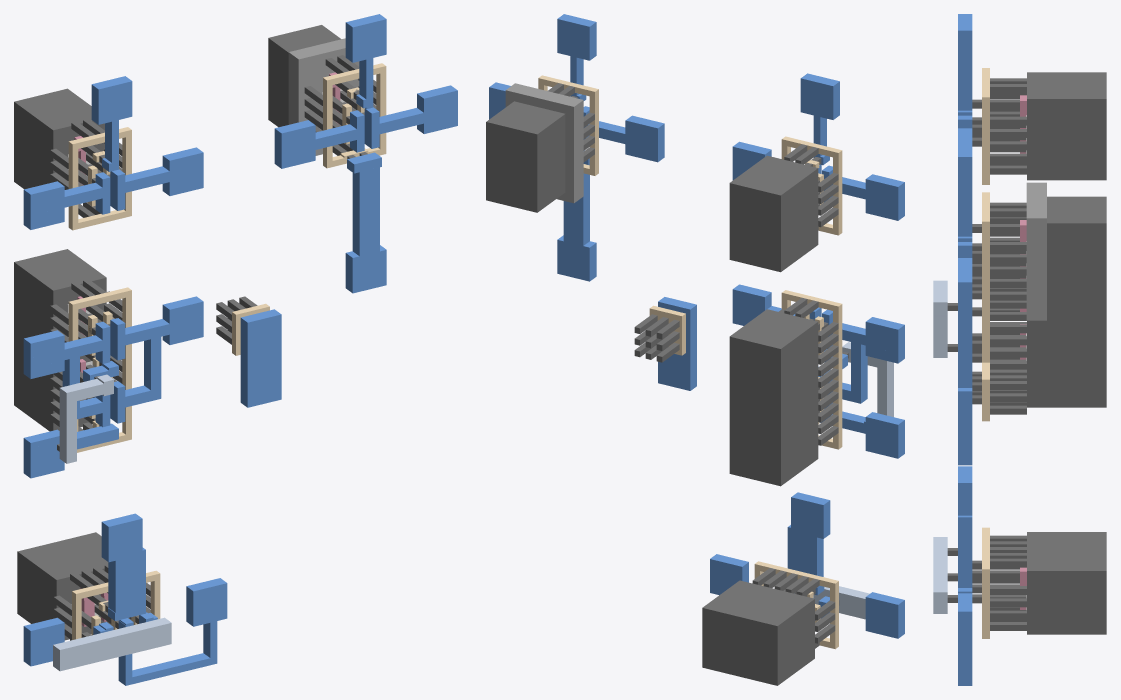
File: fets.gds.gltf
3 views of the same model, side by side, from view 1: azimuth 30°, elevation 25°; view 2: azimuth 150°, elevation 25°; view 3: azimuth 270°, elevation 25° (orthographic). The views are drawn at different scales.
Visible parts, largest first — view 1: fets_met1, sky130_fd_pr__nfet_01v8_BB6ZKZ_substrate, fets_met2, sky130_fd_pr__nfet_01v8_64Z3AY_substrate, sky130_fd_pr__nfet_01v8_F7DBYB_substrate, sky130_fd_pr__pfet_01v8_MGS3BN_nwell, sky130_fd_pr__pfet_01v8_MGS3BN_substrate, sky130_fd_pr__nfet_01v8_BB6ZKZ_li1, sky130_fd_pr__nfet_01v8_BB6ZKZ_licon, sky130_fd_pr__nfet_01v8_64Z3AY_li1, sky130_fd_pr__nfet_01v8_BB6ZKZ_met1, sky130_fd_pr__pfet_01v8_MGS3BN_li1 (+8 smaller); view 2: fets_met1, sky130_fd_pr__nfet_01v8_BB6ZKZ_substrate, sky130_fd_pr__nfet_01v8_F7DBYB_substrate, sky130_fd_pr__nfet_01v8_64Z3AY_substrate, sky130_fd_pr__pfet_01v8_MGS3BN_substrate, sky130_fd_pr__pfet_01v8_MGS3BN_nwell, sky130_fd_pr__nfet_01v8_BB6ZKZ_licon, fets_met2, sky130_fd_pr__nfet_01v8_BB6ZKZ_li1, sky130_fd_pr__nfet_01v8_F7DBYB_licon, fets_licon, sky130_fd_pr__nfet_01v8_64Z3AY_li1 (+5 smaller); view 3: fets_met1, sky130_fd_pr__nfet_01v8_64Z3AY_substrate, sky130_fd_pr__nfet_01v8_F7DBYB_substrate, sky130_fd_pr__nfet_01v8_BB6ZKZ_substrate, sky130_fd_pr__pfet_01v8_MGS3BN_substrate, sky130_fd_pr__pfet_01v8_MGS3BN_licon, sky130_fd_pr__nfet_01v8_64Z3AY_licon, sky130_fd_pr__nfet_01v8_F7DBYB_licon, sky130_fd_pr__pfet_01v8_MGS3BN_nwell, sky130_fd_pr__nfet_01v8_BB6ZKZ_licon, fets_met2, fets_licon (+13 smaller).
Part boxes in pixels (x1,y1,x2,y2): fets_met1: (23,14,457,685); sky130_fd_pr__nfet_01v8_BB6ZKZ_substrate: (14,249,106,431); fets_met2: (53,374,171,671); sky130_fd_pr__nfet_01v8_64Z3AY_substrate: (14,88,104,189); sky130_fd_pr__nfet_01v8_F7DBYB_substrate: (17,532,131,640); sky130_fd_pr__pfet_01v8_MGS3BN_nwell: (288,38,359,155); sky130_fd_pr__pfet_01v8_MGS3BN_substrate: (268,25,341,127); sky130_fd_pr__nfet_01v8_BB6ZKZ_li1: (68,287,131,452); sky130_fd_pr__nfet_01v8_BB6ZKZ_licon: (50,279,122,431); sky130_fd_pr__nfet_01v8_64Z3AY_li1: (68,127,131,230); sky130_fd_pr__nfet_01v8_BB6ZKZ_met1: (95,318,125,438); sky130_fd_pr__pfet_01v8_MGS3BN_li1: (323,63,386,168); fets_met1: (489,14,904,638); sky130_fd_pr__nfet_01v8_BB6ZKZ_substrate: (729,309,818,486); sky130_fd_pr__nfet_01v8_F7DBYB_substrate: (702,580,814,685); sky130_fd_pr__nfet_01v8_64Z3AY_substrate: (729,155,818,272); sky130_fd_pr__pfet_01v8_MGS3BN_substrate: (486,101,565,212); sky130_fd_pr__pfet_01v8_MGS3BN_nwell: (505,83,583,203); sky130_fd_pr__nfet_01v8_BB6ZKZ_licon: (778,297,838,445); fets_met2: (814,342,893,619); sky130_fd_pr__nfet_01v8_BB6ZKZ_li1: (781,290,842,449); sky130_fd_pr__nfet_01v8_F7DBYB_licon: (752,568,835,648); fets_licon: (634,314,679,362); sky130_fd_pr__nfet_01v8_64Z3AY_li1: (781,136,842,235); fets_met1: (958,14,972,685); sky130_fd_pr__nfet_01v8_64Z3AY_substrate: (1027,72,1106,180); sky130_fd_pr__nfet_01v8_F7DBYB_substrate: (1027,532,1106,634); sky130_fd_pr__nfet_01v8_BB6ZKZ_substrate: (1027,306,1106,407); sky130_fd_pr__pfet_01v8_MGS3BN_substrate: (1047,196,1106,306); sky130_fd_pr__pfet_01v8_MGS3BN_licon: (990,202,1026,300); sky130_fd_pr__nfet_01v8_64Z3AY_licon: (990,78,1026,174); sky130_fd_pr__nfet_01v8_F7DBYB_licon: (990,535,1026,630); sky130_fd_pr__pfet_01v8_MGS3BN_nwell: (1026,182,1046,320); sky130_fd_pr__nfet_01v8_BB6ZKZ_licon: (990,278,1026,369); fets_met2: (933,280,947,613); fets_licon: (990,369,1026,414).
Bounding box in the file's own units: 12.6 × 17 × 4.36.
